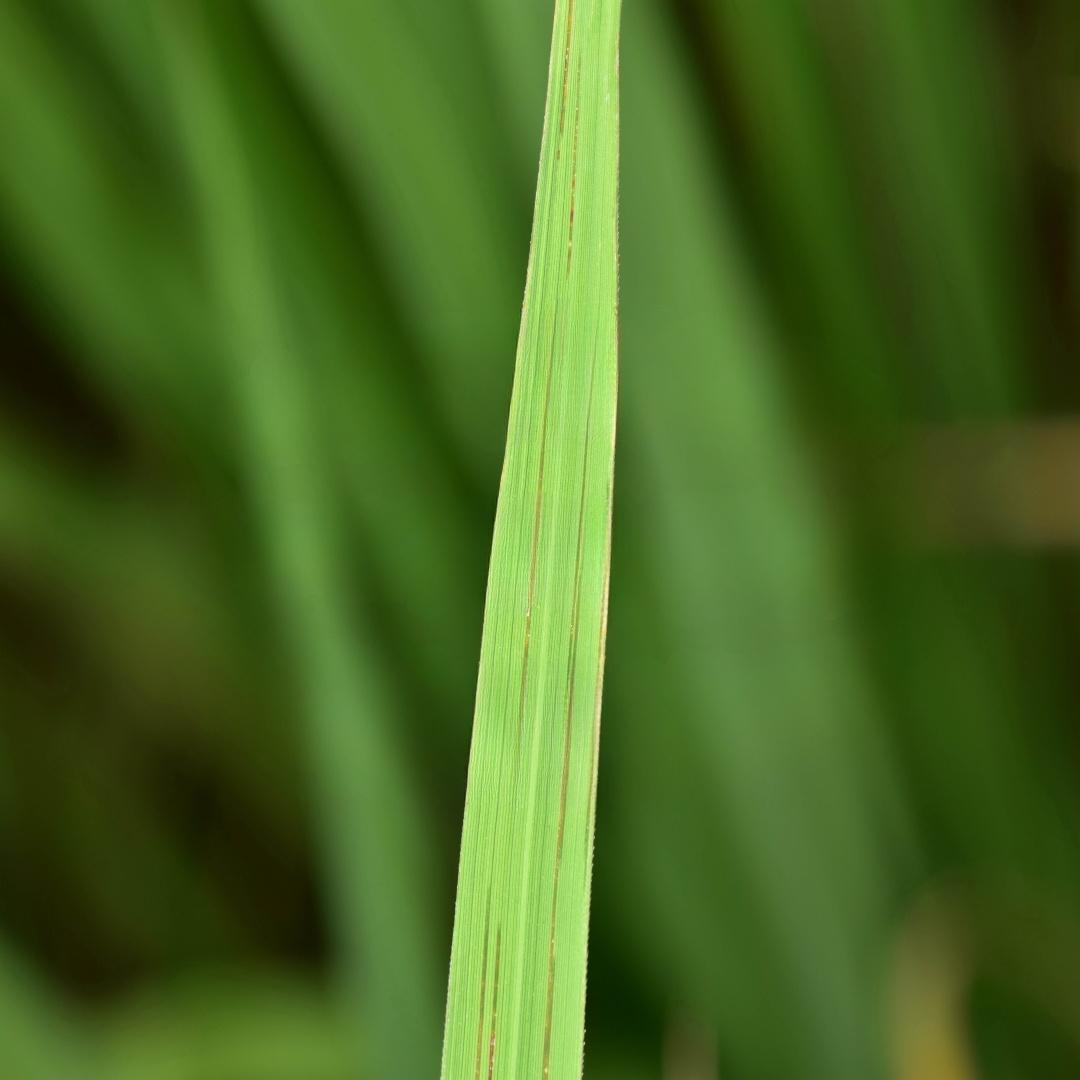BLS: (542, 448, 588, 1079), (586, 321, 619, 882), (517, 448, 545, 788), (475, 885, 490, 1079), (567, 56, 580, 273), (488, 927, 501, 1079), (560, 0, 574, 135)
LEAF: (441, 0, 620, 1079)
